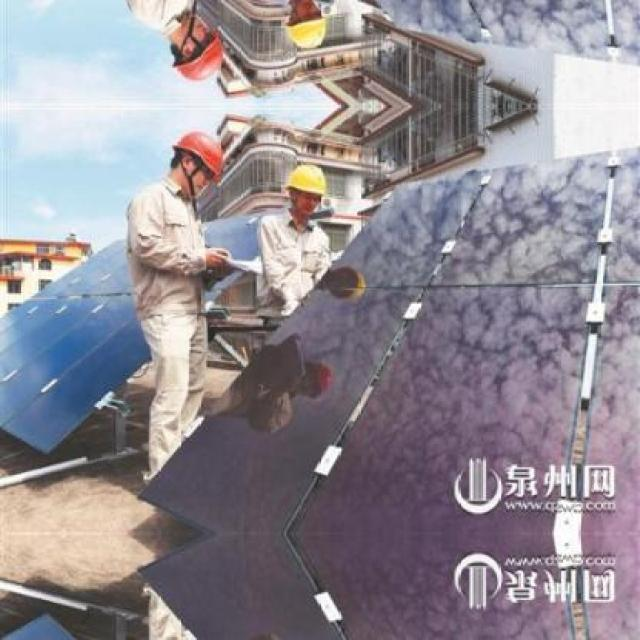helmet: (161, 123, 227, 199), (161, 13, 227, 89), (281, 159, 328, 219), (280, 0, 329, 54)
